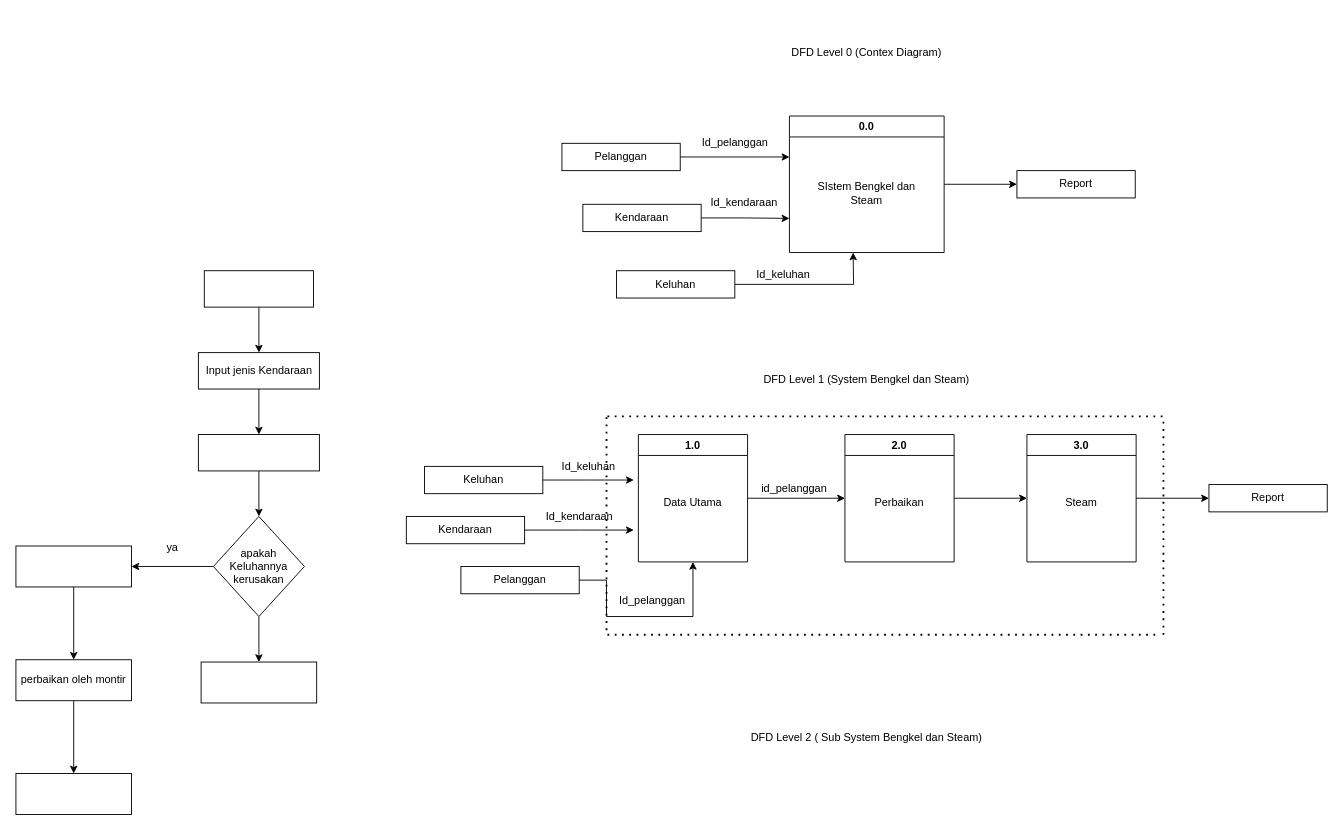
The diagram is 1343 pixels wide and 830 high, and some of its shapes have lost their labels. Here are the shapes that lost their labels. From the top down, the centre of each, then its label:
At pixel 258 288: "Pelanggan Registrasi".
At pixel 258 452: "Input Keluhan".
At pixel 73 566: "Jadwalkan waktu perbaikan".
At pixel 258 682: "Jadwalkan waktu pencucian".
At pixel 73 793: "keluarkan report hasil perbaikan".
